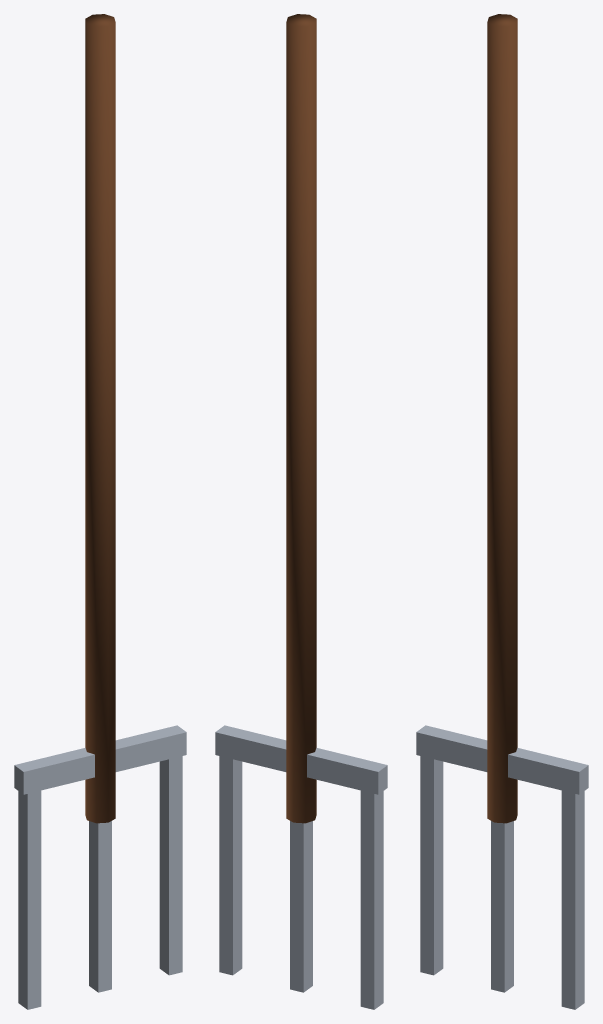
File: pitchfork.glb
3 views of the same model, side by side, from view 1: azimuth 30°, elevation 25°; view 2: azimuth 150°, elevation 25°; view 3: azimuth 330°, elevation 25° (orthographic).
Parts seen in each view (by area): view 1: pitchfork; view 2: pitchfork; view 3: pitchfork.
Part boxes in pixels (x1,y1,x2,y2): pitchfork: (14, 14, 186, 1009); pitchfork: (215, 14, 387, 1009); pitchfork: (416, 14, 588, 1009).
Bounding box in the file's own units: 0.3 × 1.7 × 0.05.
